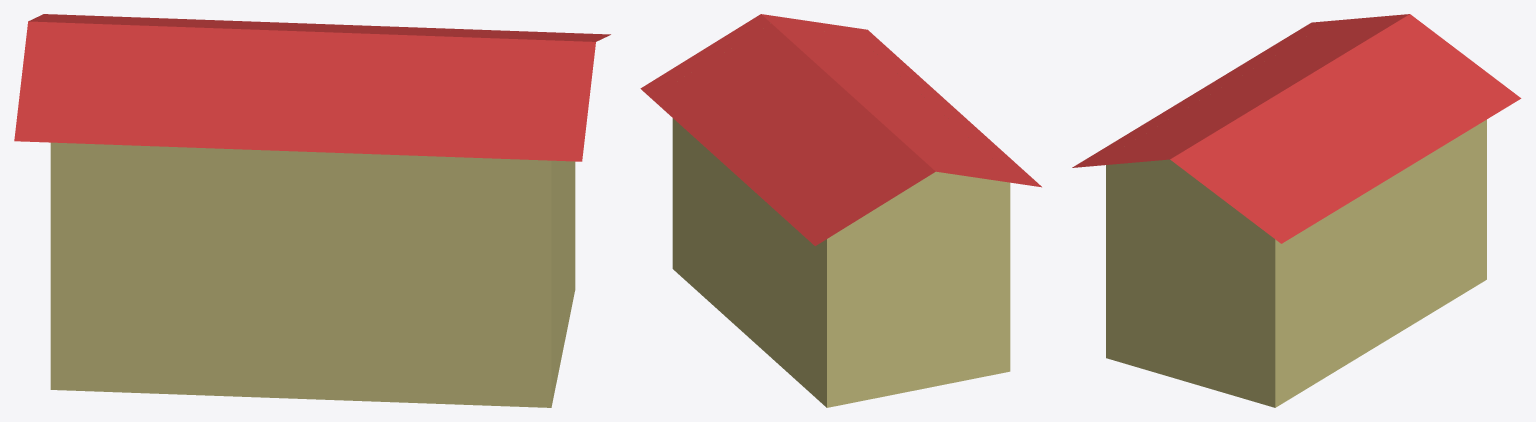
3 renders of one model, left to right at view 1: azimuth 30°, elevation 25°; view 2: azimuth 150°, elevation 25°; view 3: azimuth 270°, elevation 25°, orthographic. The views are drawn at different scales.
Parts seen in each view (by area): view 1: group_5, group_3, group_4; view 2: group_5, group_3, group_4; view 3: group_5, group_3, group_4.
Part boxes in pixels (x1,y1,x2,y2): group_5: [50, 142, 575, 407]; group_3: [17, 14, 595, 157]; group_4: [14, 14, 610, 161]; group_5: [672, 118, 1010, 407]; group_3: [673, 14, 1009, 245]; group_4: [640, 14, 1041, 245]; group_5: [1106, 119, 1486, 407]; group_3: [1106, 14, 1521, 219]; group_4: [1072, 14, 1520, 243].
Size of the model in its own units: 14.82 by 13.59 by 7.67.
